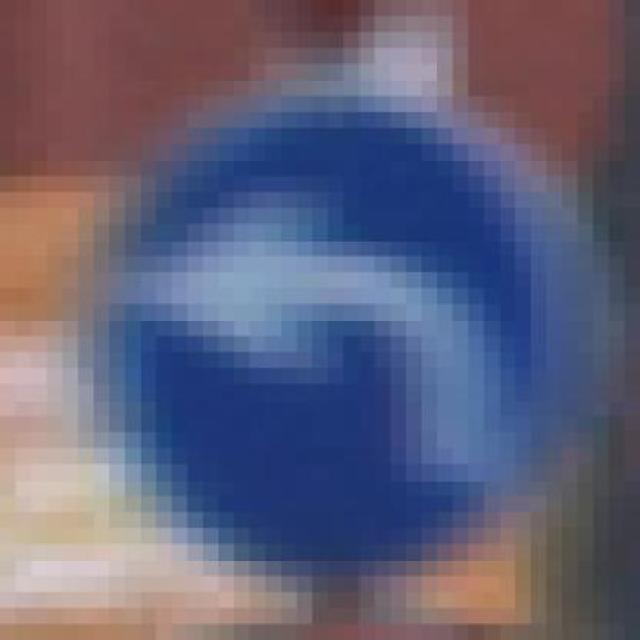Turn left ahead: (62, 64, 608, 591)
